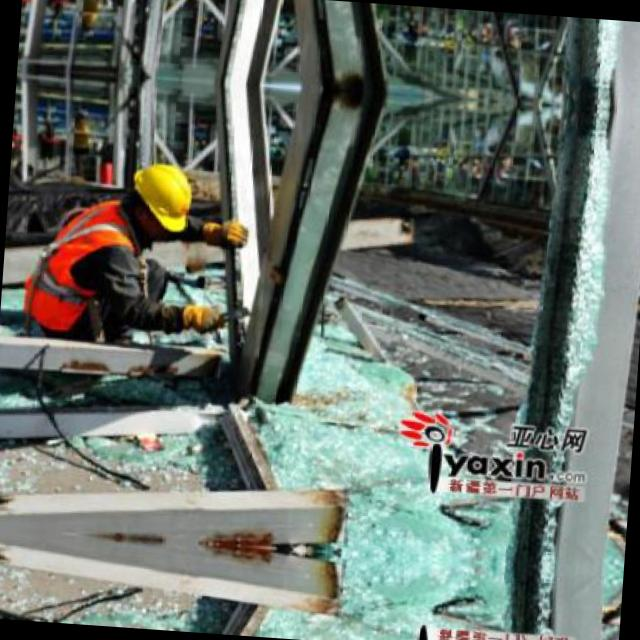helmet: (118, 154, 196, 238)
